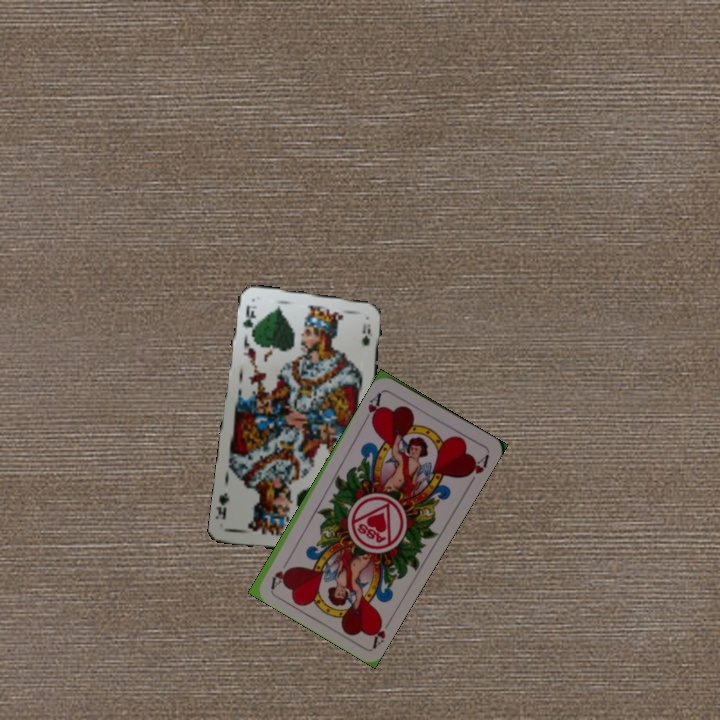GK: (239, 301, 257, 339)
HA: (367, 612, 394, 650), (360, 387, 386, 426)
